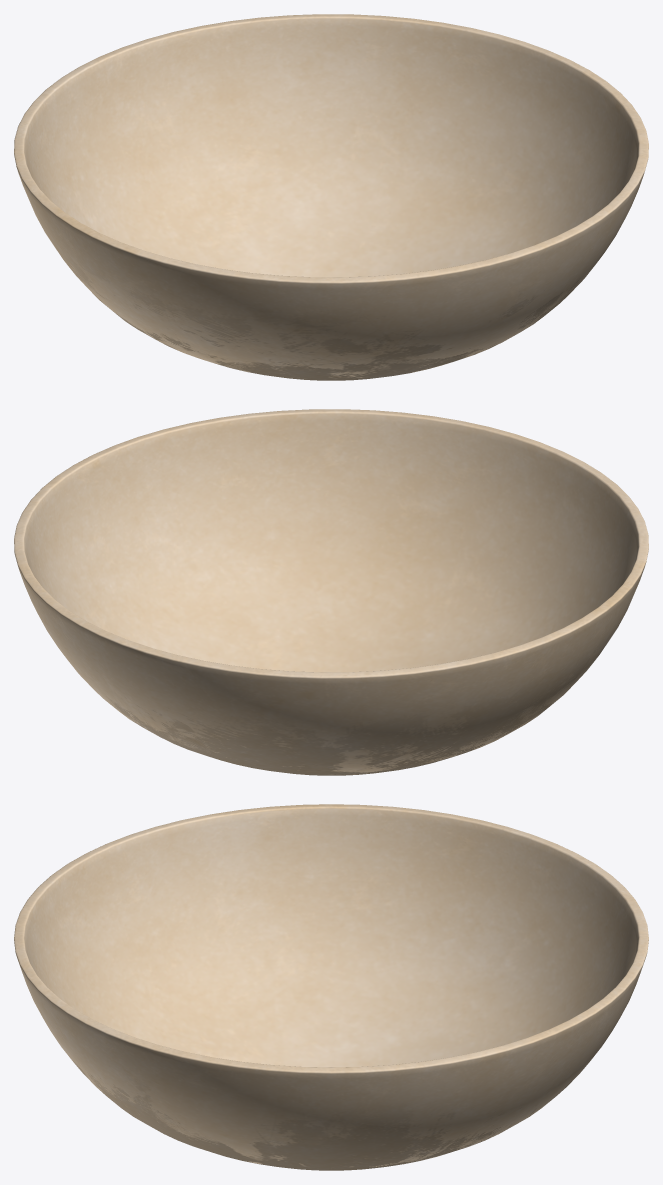
File: assamese_traditional_bowl.glb
3 views of the same model, one above another, from view 1: azimuth 30°, elevation 25°; view 2: azimuth 150°, elevation 25°; view 3: azimuth 270°, elevation 25° (orthographic).
Visible parts, largest first — view 1: kahor bati; view 2: kahor bati; view 3: kahor bati.
Part boxes in pixels (left/top/right/bottom): kahor bati: left=14, top=14, right=648, bottom=380; kahor bati: left=14, top=409, right=648, bottom=775; kahor bati: left=14, top=804, right=648, bottom=1170.
Size of the model in its own units: 2.19 by 0.7422 by 2.19.
1 material, 1 textured.
